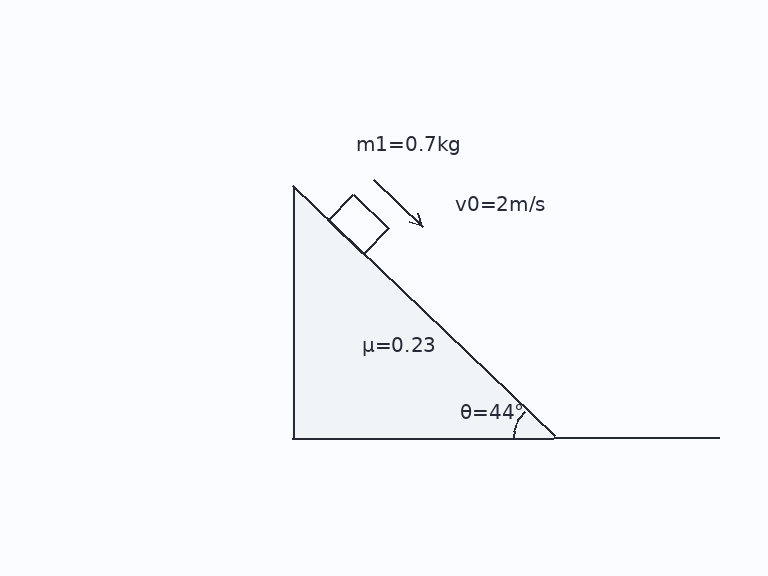block: (326, 192, 390, 255)
ramp: (291, 184, 556, 440)
